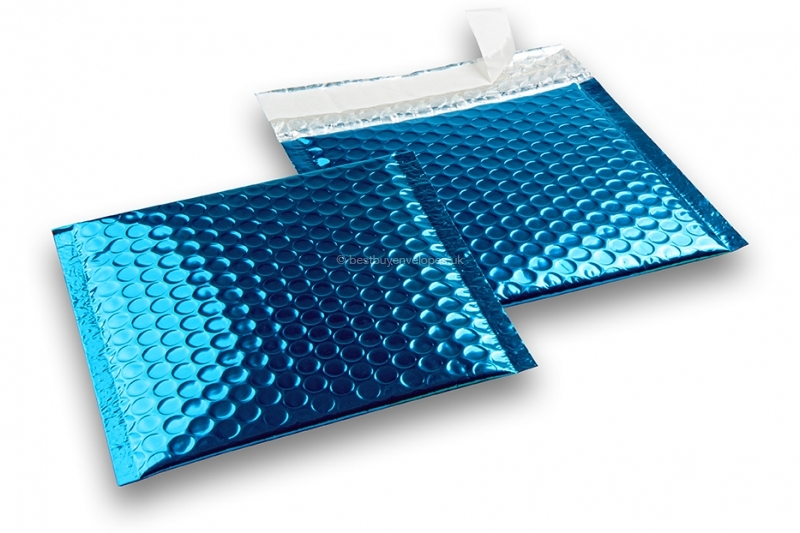Parcel: (49, 150, 538, 487)
